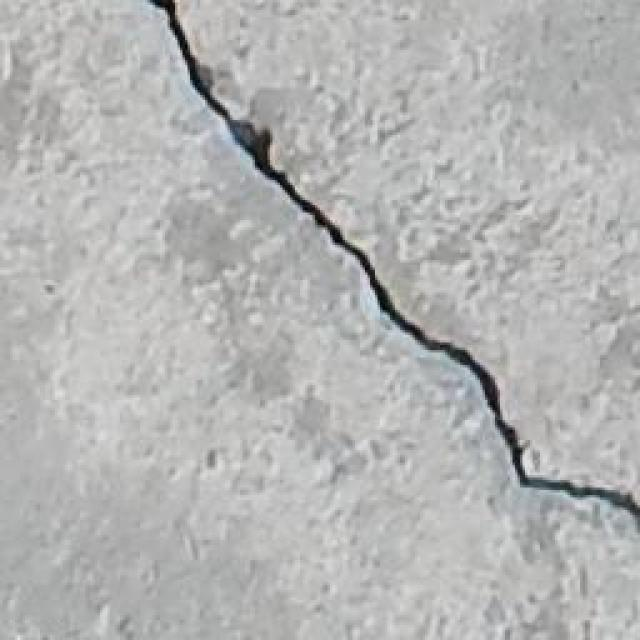concrete-crack: (148, 0, 640, 525)
